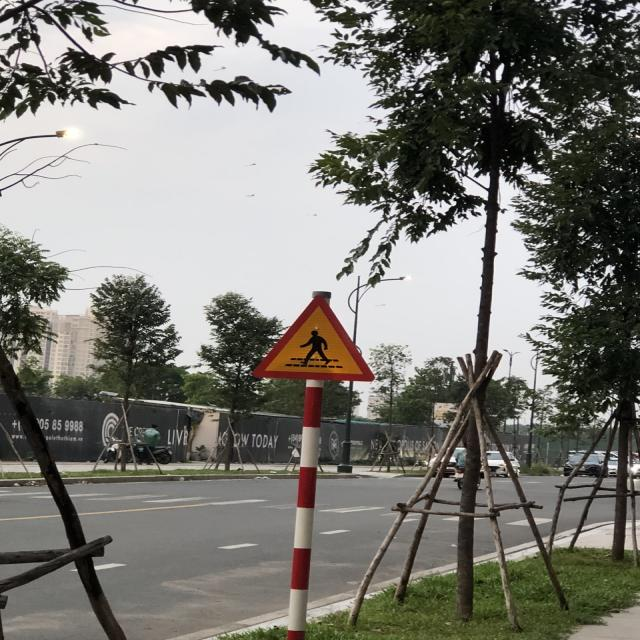Bien bao duong nguoi di bo cat ngang: (234, 286, 390, 397)
